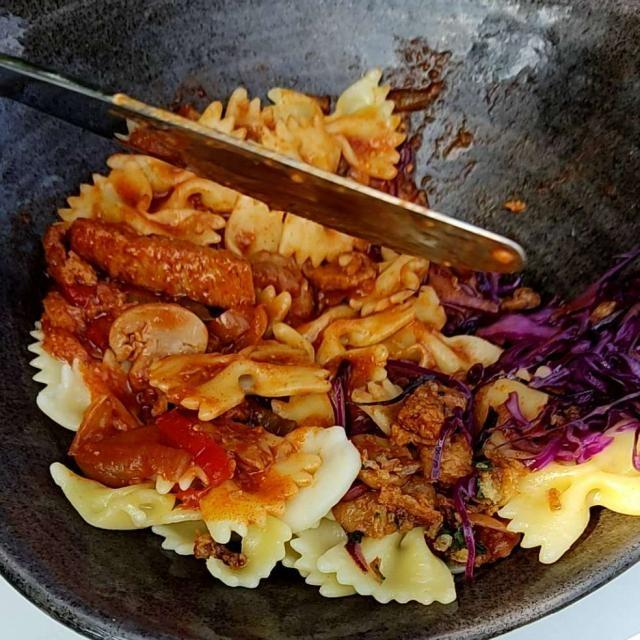cabbage: (436, 255, 638, 539)
meat: (348, 383, 489, 519)
mixed-vegetables: (39, 282, 308, 495)
pasta: (27, 85, 637, 602)
sausage: (63, 219, 377, 343)
tomato-sauce: (202, 75, 465, 507)
